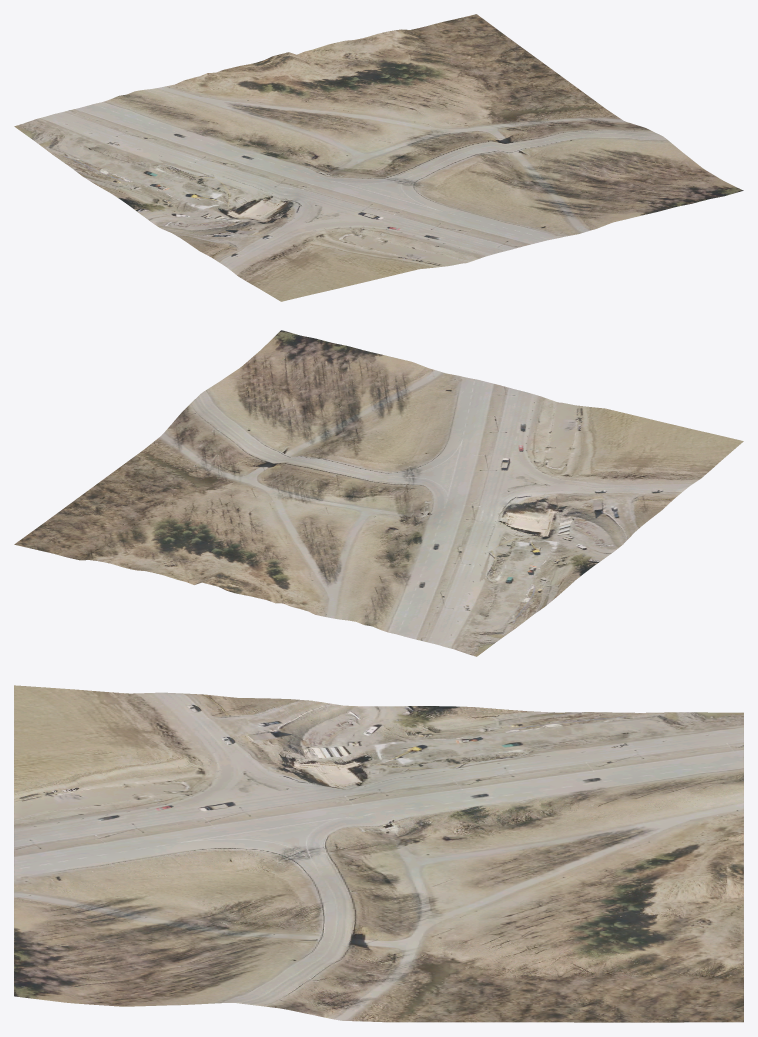
Rendered from CM_Terrain_24490868_6818975.fbx.
3 views of the same model, one above another, from view 1: azimuth 30°, elevation 25°; view 2: azimuth 150°, elevation 25°; view 3: azimuth 270°, elevation 25° (orthographic). The views are drawn at different scales.
Parts seen in each view (by area): view 1: CM_Terrain_24490868_6818975_LOD0; view 2: CM_Terrain_24490868_6818975_LOD0; view 3: CM_Terrain_24490868_6818975_LOD0.
Part boxes in pixels (bbox=[...]): CM_Terrain_24490868_6818975_LOD0: bbox=[14, 14, 743, 301]; CM_Terrain_24490868_6818975_LOD0: bbox=[14, 330, 743, 656]; CM_Terrain_24490868_6818975_LOD0: bbox=[14, 685, 743, 1022].
Size of what is drawn, in the model's own units: 205 by 9.39 by 205.
